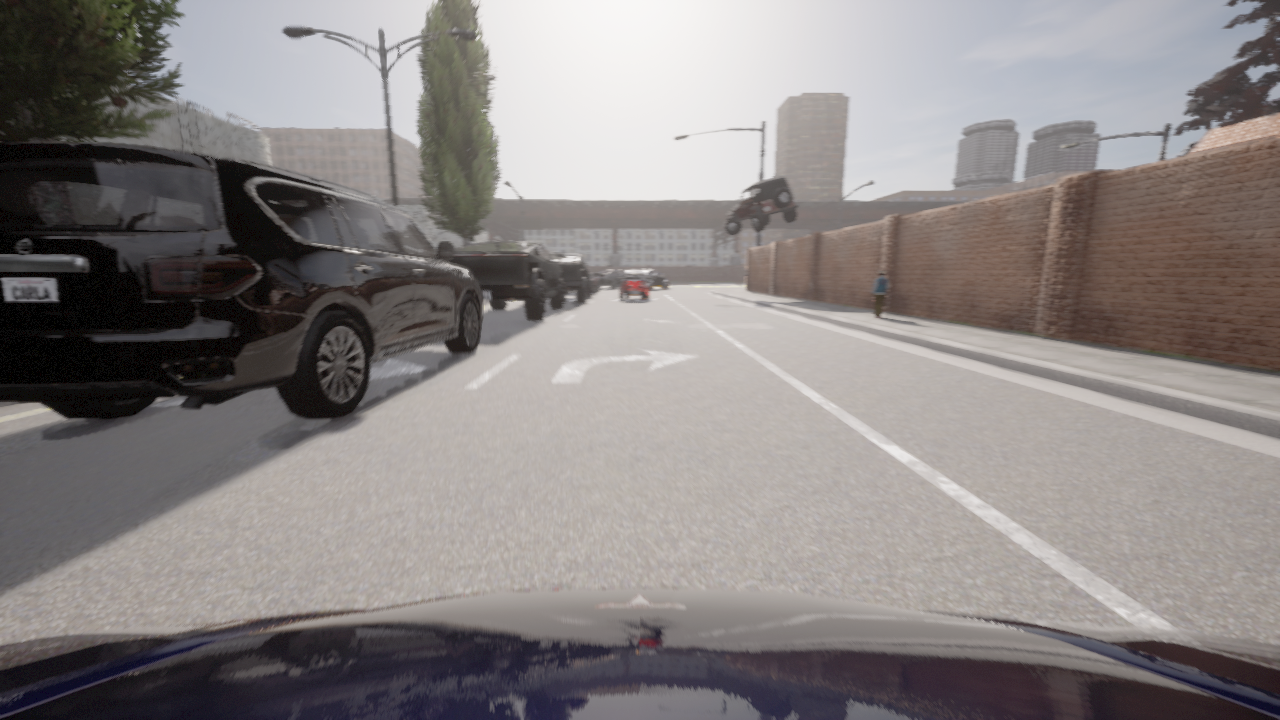cyclist: (0, 588, 1279, 719), (444, 242, 566, 320), (725, 177, 798, 235), (550, 253, 592, 302), (619, 270, 649, 300), (565, 272, 598, 293), (594, 270, 625, 288), (641, 269, 668, 289)
pedestrian: (871, 270, 888, 318)
